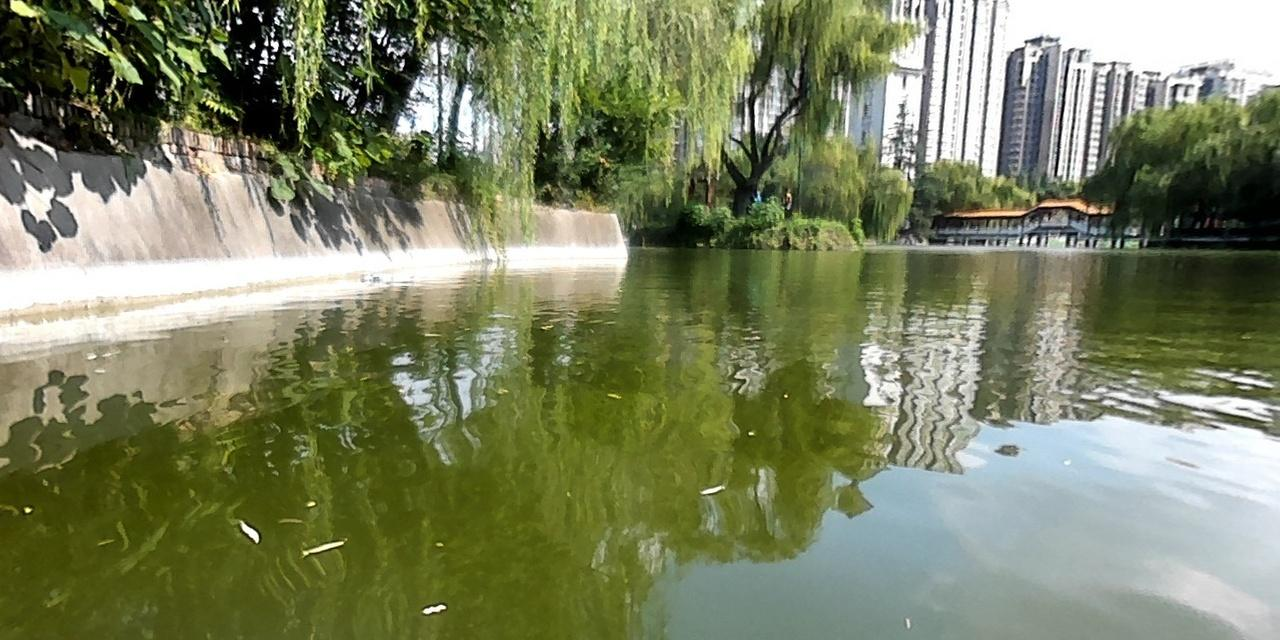bottle: (361, 272, 392, 287)
